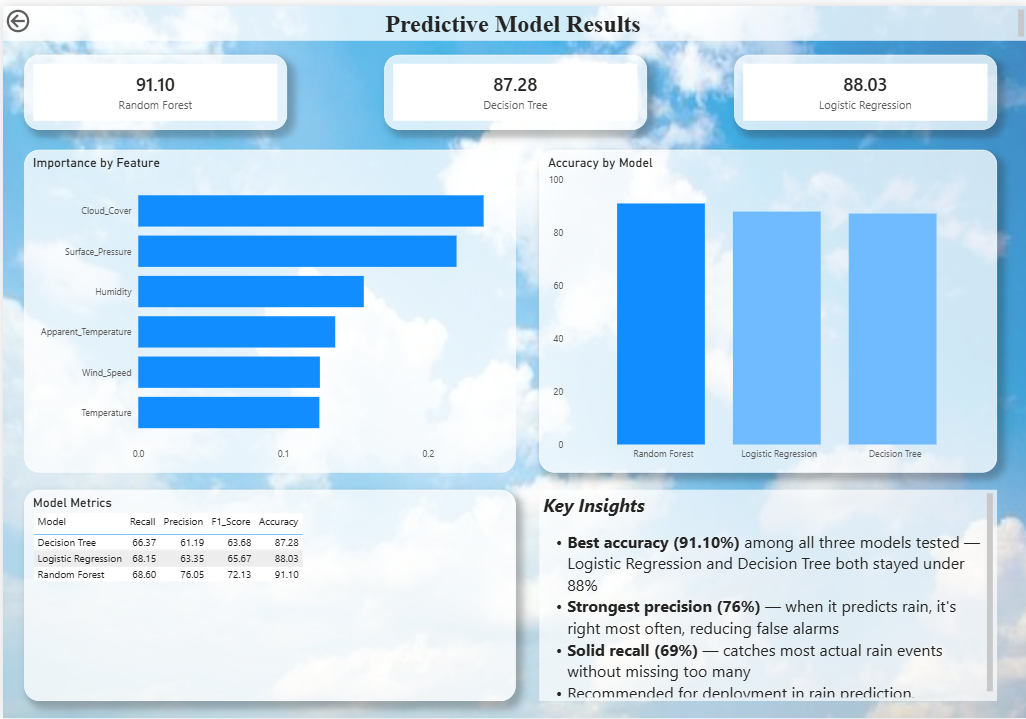

Layout of this report page (visuals, bound fields, positions):
{"tool":"powerbi","page":{"name":"Page 2","canvas":[1366,950],"ordinal":1},"visuals":[{"type":"textbox","box":[0,0,1366.7,46.7],"z":0},{"type":"cardVisual","fields":{"Data":["Sum(model_comparison_full.Accuracy)"]},"box":[975,65,350,100],"z":1000},{"type":"cardVisual","fields":{"Data":["Sum(model_comparison_full.Accuracy)"]},"box":[28.3,65,350,100],"z":2000},{"type":"cardVisual","fields":{"Data":["Sum(model_comparison_full.Accuracy)"]},"box":[508.3,65,350,100],"z":3000},{"type":"clusteredBarChart","title":"Importance by Feature","fields":{"Category":["feature_importance.Feature"],"Y":["Sum(feature_importance.Importance)"]},"box":[28.3,191.7,655,430],"z":4000},{"type":"clusteredColumnChart","title":"Accuracy by Model","fields":{"Y":["Sum(model_comparison_full.Accuracy)"],"Category":["model_comparison_full.Model"]},"box":[715,191.7,610,430],"z":5000},{"type":"tableEx","title":"Model Metrics","fields":{"Values":["model_comparison_full.Model","Sum(model_comparison_full.Recall)","Sum(model_comparison_full.Precision)","Sum(model_comparison_full.F1_Score)","Sum(model_comparison_full.Accuracy)"]},"box":[28.3,645,655,281.7],"z":6000},{"type":"actionButton","box":[0,0,100,40],"z":7000},{"type":"textbox","box":[715,645,610,281.7],"z":8000}]}

Visuals, with their boxes in screenshot pixels (x1, y1, x2, y2), scaled from the page's 1366x950 canvas onto the 1026x719 screenshot:
textbox: [0,0,1025,35]
cardVisual - Sum(model_comparison_full.Accuracy): [732,49,995,125]
cardVisual - Sum(model_comparison_full.Accuracy): [21,49,284,125]
cardVisual - Sum(model_comparison_full.Accuracy): [382,49,645,125]
"Importance by Feature" clusteredBarChart: [21,145,513,471]
"Accuracy by Model" clusteredColumnChart: [537,145,995,471]
"Model Metrics" tableEx: [21,488,513,701]
actionButton: [0,0,75,30]
textbox: [537,488,995,701]
